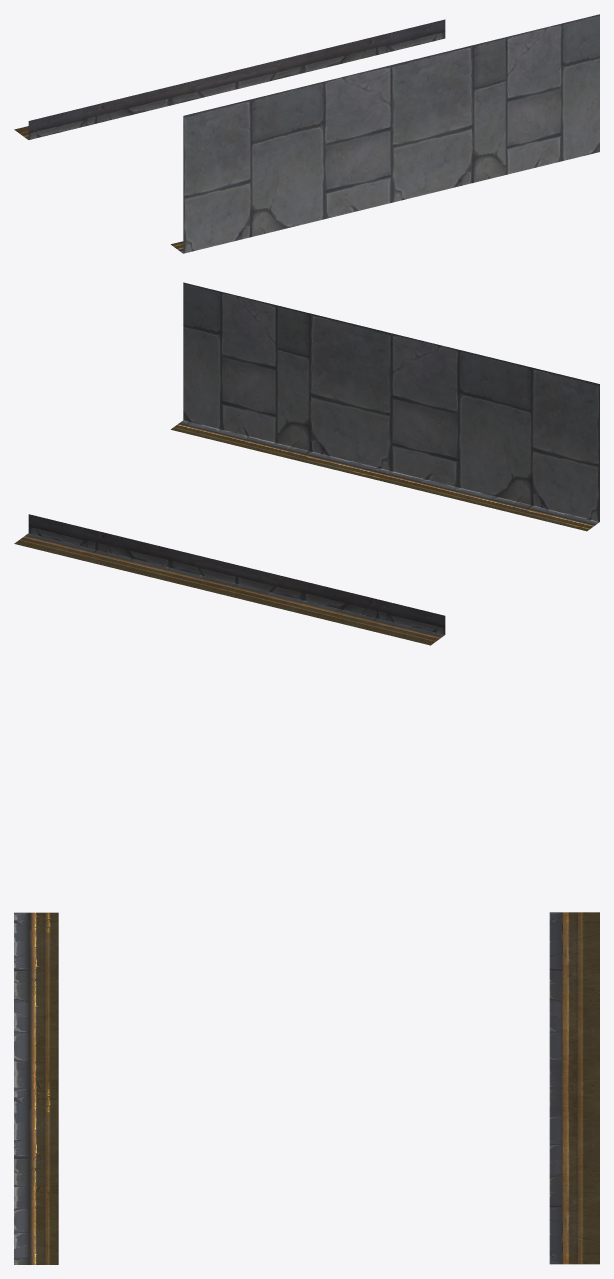
Rendered from huodong_fuben_651_pingtai02_qiang02.obj.
3 views of the same model, one above another, from view 1: azimuth 30°, elevation 25°; view 2: azimuth 150°, elevation 25°; view 3: azimuth 270°, elevation 25° (orthographic). The views are drawn at different scales.
Parts seen in each view (by area): view 1: huodong_fuben_651_pingtai02_qiang02; view 2: huodong_fuben_651_pingtai02_qiang02; view 3: huodong_fuben_651_pingtai02_qiang02.
Part boxes in pixels (x1,y1,x2,y2): huodong_fuben_651_pingtai02_qiang02: (14, 14, 599, 253); huodong_fuben_651_pingtai02_qiang02: (14, 282, 599, 645); huodong_fuben_651_pingtai02_qiang02: (14, 912, 599, 1264).
Bounding box in the file's own units: 746 × 236 × 525.
1 material, 1 textured.
